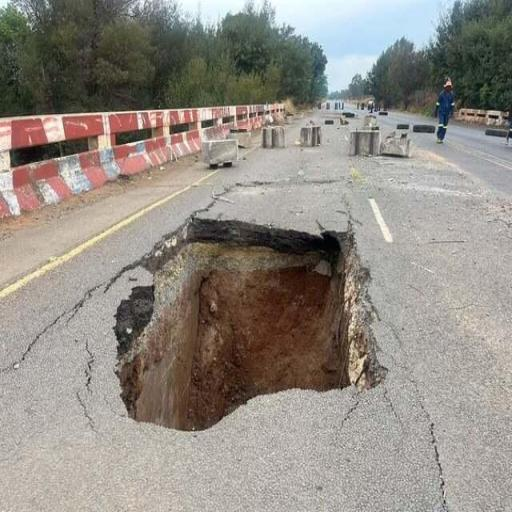Concentric_Crack: (115, 219, 385, 430)
